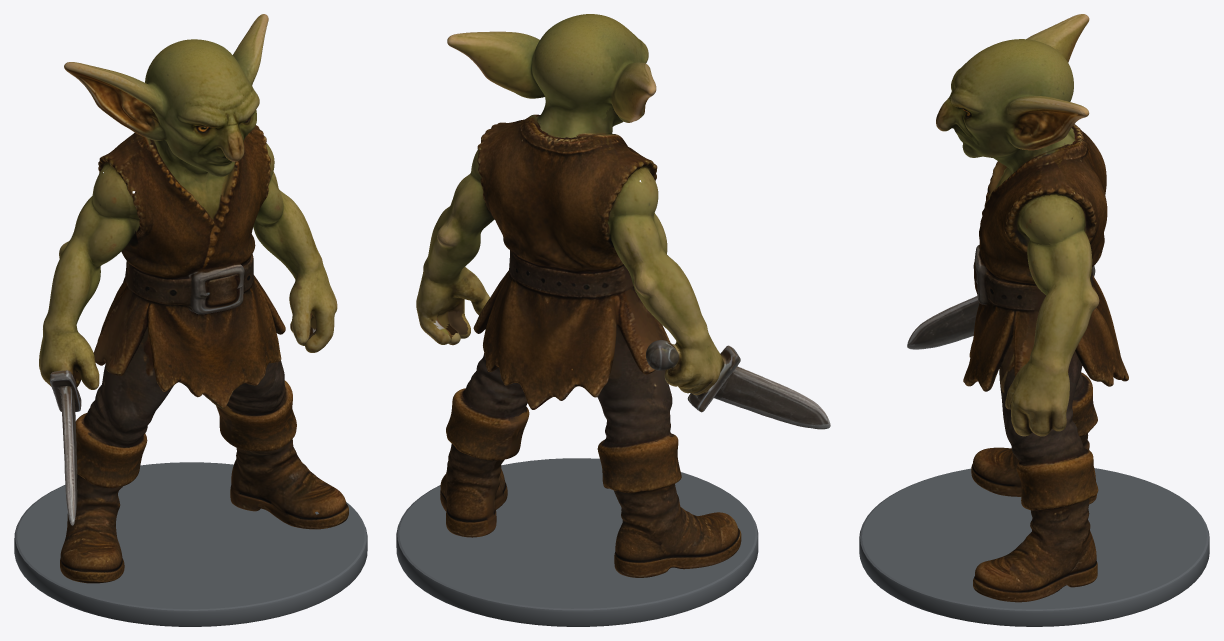
File: generated-high-goblin-2fd5b442556f.glb
3 views of the same model, side by side, from view 1: azimuth 30°, elevation 25°; view 2: azimuth 150°, elevation 25°; view 3: azimuth 270°, elevation 25° (orthographic). The views are drawn at different scales.
Parts seen in each view (by area): view 1: comparison-goblin-hybrid_body, comparison-goblin-hybrid_round_base; view 2: comparison-goblin-hybrid_body, comparison-goblin-hybrid_round_base; view 3: comparison-goblin-hybrid_body, comparison-goblin-hybrid_round_base.
Boxes of the visible parts, left/top/right/bottom form: comparison-goblin-hybrid_body: left=39, top=14, right=348, bottom=583; comparison-goblin-hybrid_round_base: left=14, top=462, right=367, bottom=626; comparison-goblin-hybrid_body: left=416, top=14, right=830, bottom=577; comparison-goblin-hybrid_round_base: left=396, top=458, right=758, bottom=626; comparison-goblin-hybrid_body: left=907, top=14, right=1128, bottom=602; comparison-goblin-hybrid_round_base: left=859, top=468, right=1209, bottom=626.
Bounding box in the file's own units: 1.1 × 1.6 × 1.
Materials: 2 (1 with a texture image).
